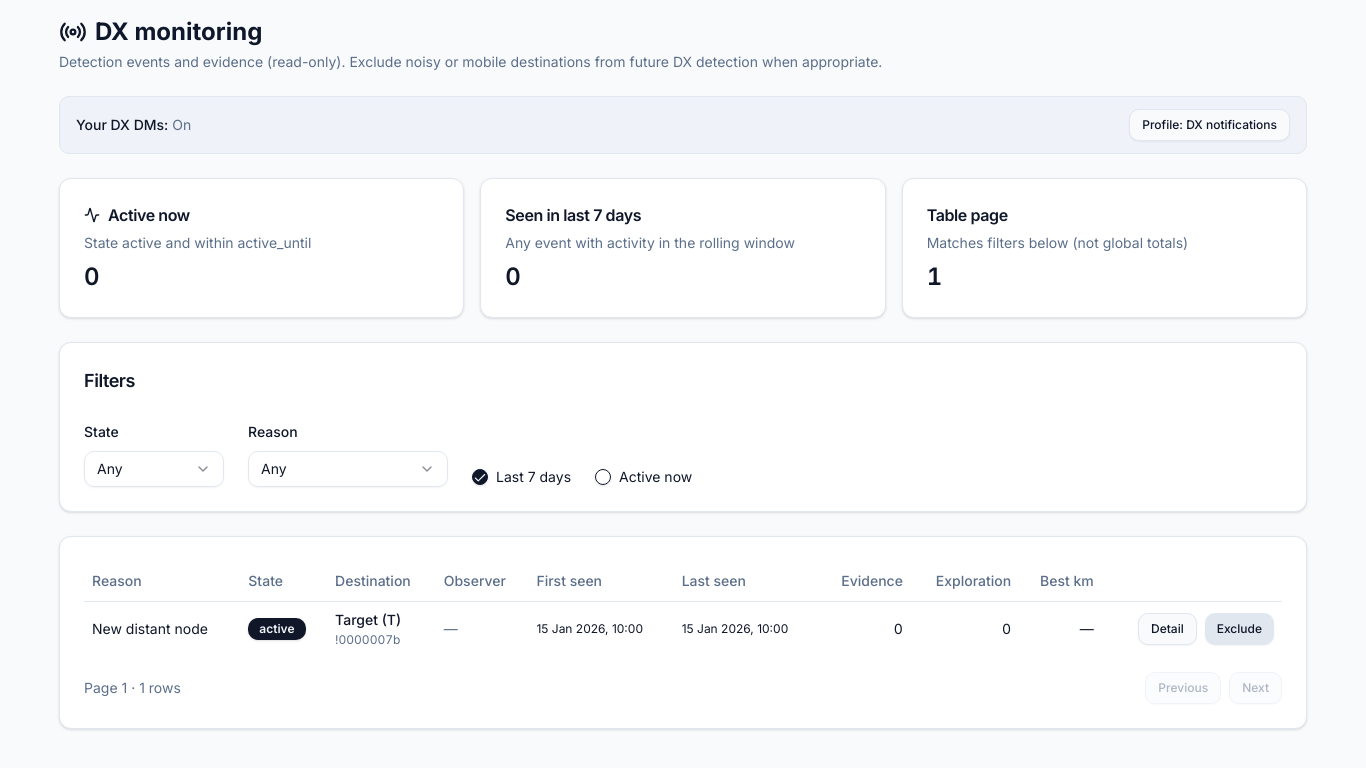
Test case: DxMonitoringPage › shows empty exploration copy when there are no attempt rows
What coordinates should you click on to do the following:
click the button "Detail"
I would click on:
 (1167, 628)
Its box is [1138, 612, 1197, 644].
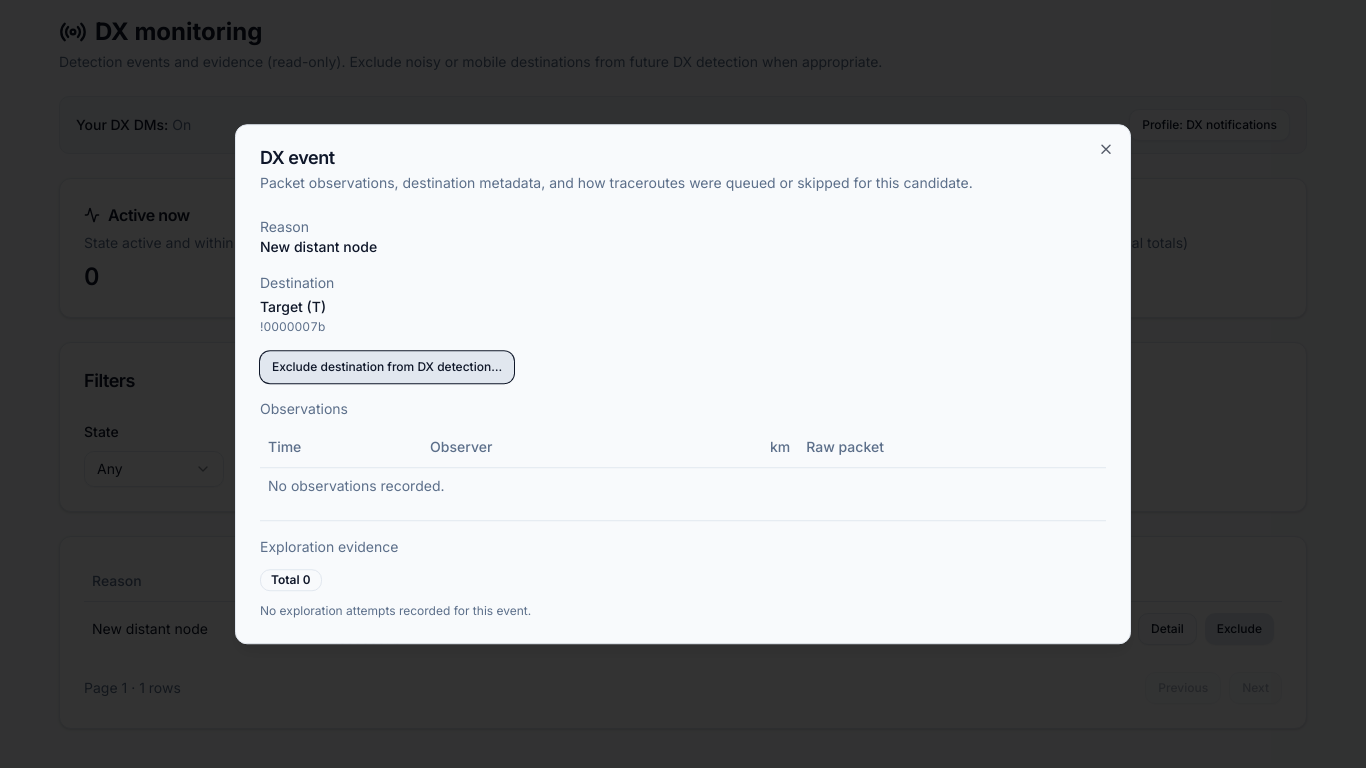
Expected: the text "No exploration attempts recorded for this event." is shown, [260, 603, 531, 618]
